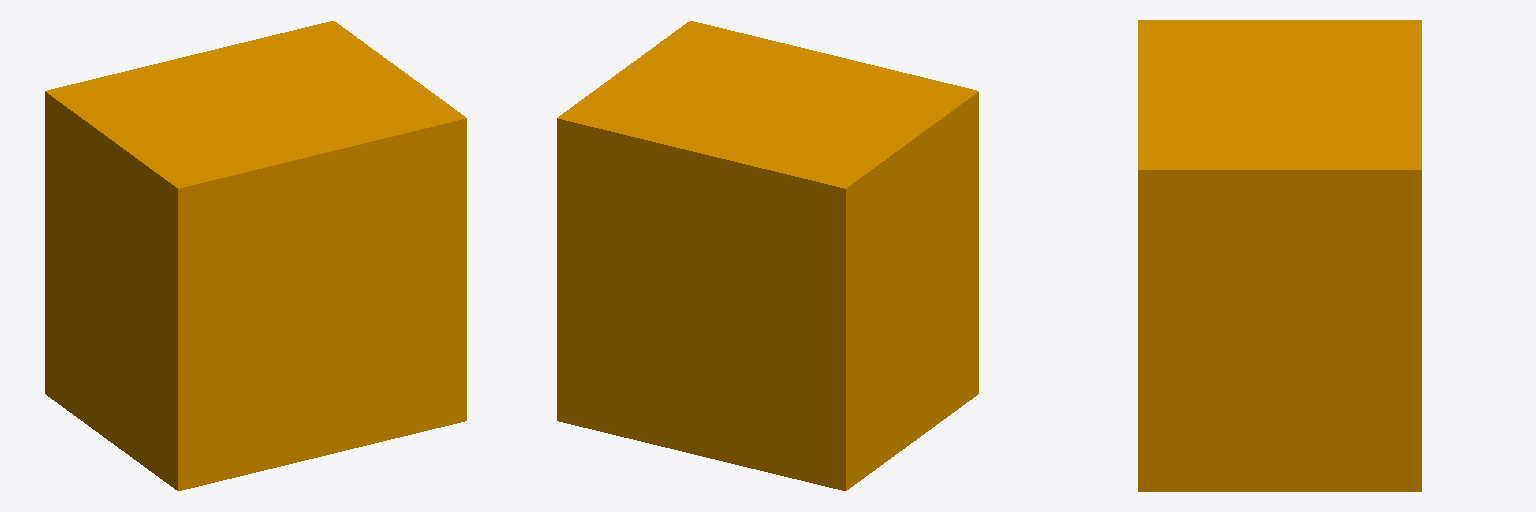
The robot description file, URDF, robot "object":
<robot name="object">
  <link name="object">
    <visual>
      <origin xyz="0 0 0" />
      <geometry>
        <box size="0.08000000000000002 0.064 0.08" />
      </geometry>
    </visual>

    <collision>
      <origin xyz="0 0 0" />
      <geometry>
        <box size="0.08000000000000002 0.064 0.08" />
      </geometry>
    </collision>

    <inertial>
      <mass value="0.05" />
      <inertia ixx="0.0001" ixy="0.0" ixz="0.0" iyy="0.0001" iyz="0.0" izz="0.0001" />
    </inertial>
  </link>
</robot>

--- Facts derived from the render (not from the file) ---
Views: 3 orthographic renders of the robot side by side, from view 1: azimuth 30°, elevation 25°; view 2: azimuth 150°, elevation 25°; view 3: azimuth 270°, elevation 25°.
Robot: object — 1 links, 0 joints (none); root link object; default pose: all joints at 0.
Links seen in each view (by area): view 1: object; view 2: object; view 3: object.
Boxes of the visible links, left/top/right/bottom form: object: left=45, top=21, right=466, bottom=490; object: left=557, top=21, right=978, bottom=490; object: left=1138, top=20, right=1421, bottom=491.
Bounding box of the posed robot: 0.08 × 0.064 × 0.08 m (x, y, z).
Geometry: primitives only (box / cylinder / sphere), no mesh files.